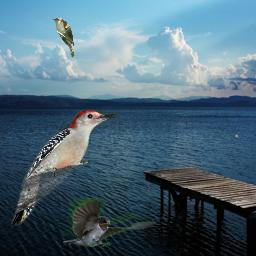Cuckoo: (50, 17, 75, 59)
Swallow: (63, 198, 156, 247)
Woodpecker: (11, 109, 119, 227)
